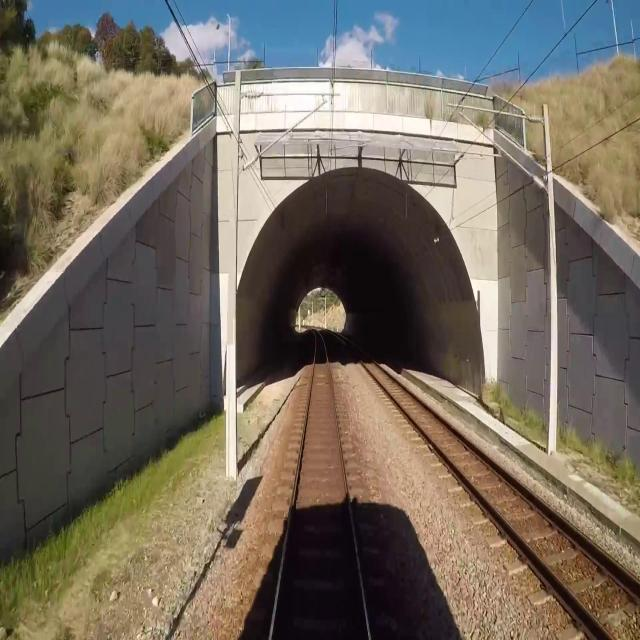rail-track: (346, 342, 640, 639), (274, 333, 367, 639)
